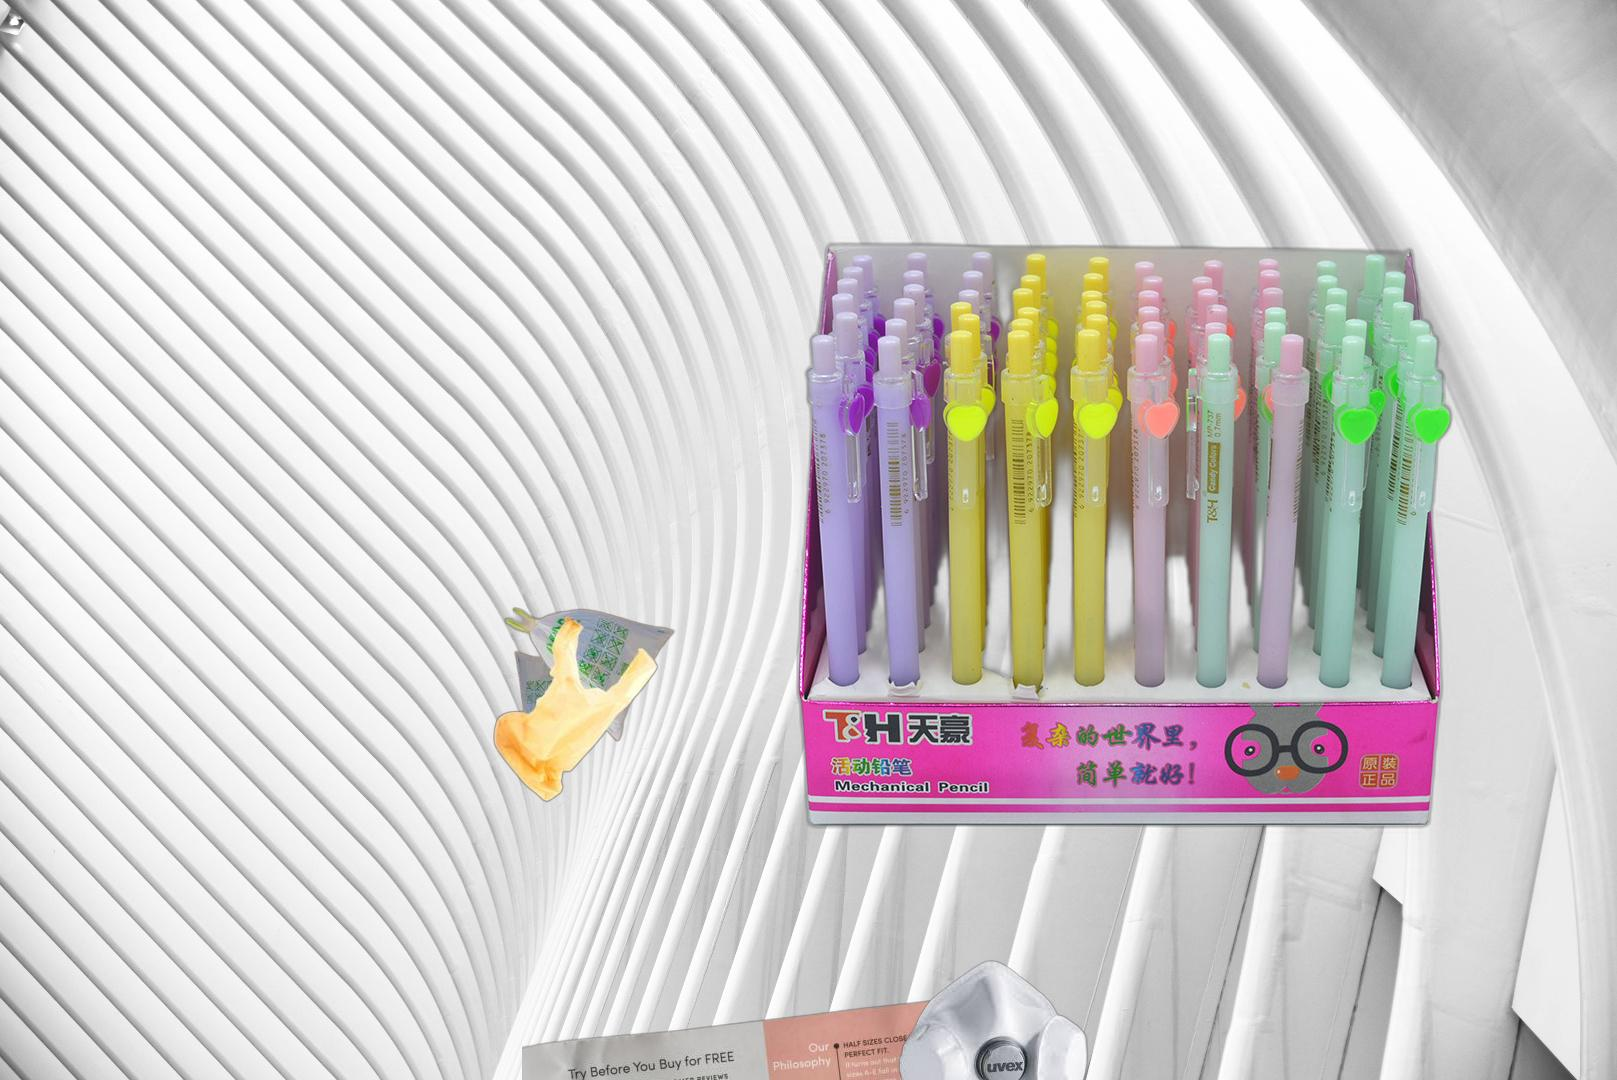biological: (921, 331, 1145, 556)
paper: (522, 992, 1023, 1080)
penholder: (790, 237, 1458, 834)
plastic-bag: (490, 606, 677, 804)
trash: (896, 958, 1090, 1080)
